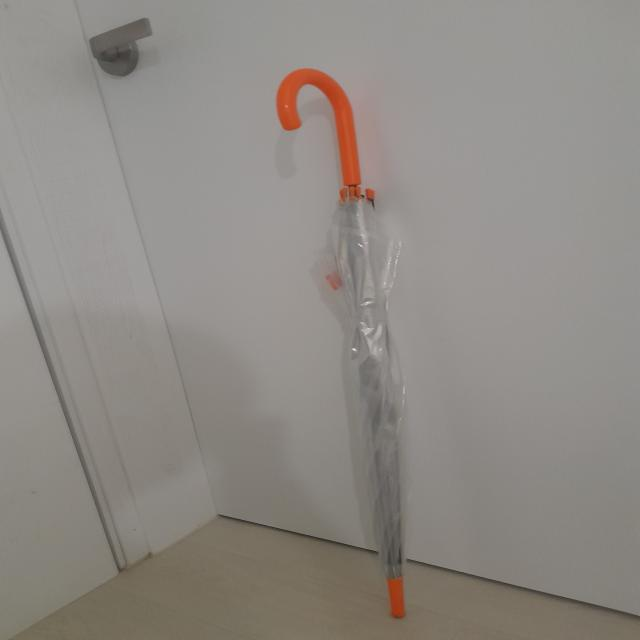umbrella: (280, 68, 408, 620)
